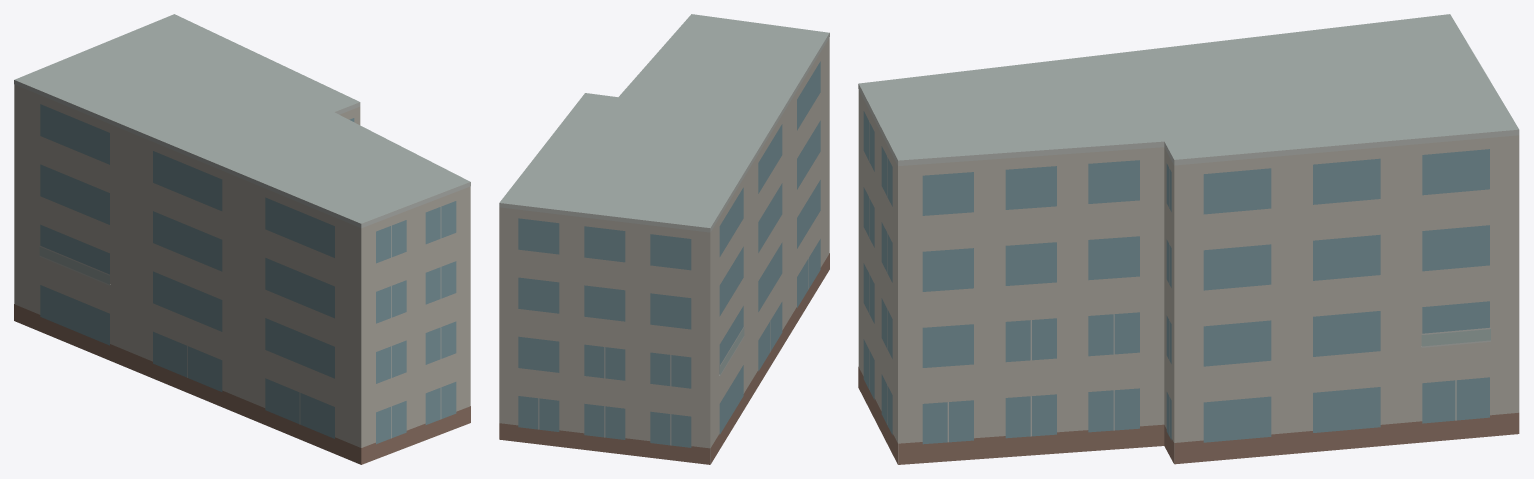
File: survey-upis-32773772.glb
3 views of the same model, side by side, from view 1: azimuth 30°, elevation 25°; view 2: azimuth 150°, elevation 25°; view 3: azimuth 270°, elevation 25° (orthographic). The views are drawn at different scales.
Visible parts, largest first — view 1: survey-upis-32773772.tmp; view 2: survey-upis-32773772.tmp; view 3: survey-upis-32773772.tmp.
Part boxes in pixels (left/top/right/bottom): survey-upis-32773772.tmp: left=14, top=14, right=470, bottom=464; survey-upis-32773772.tmp: left=499, top=14, right=829, bottom=464; survey-upis-32773772.tmp: left=858, top=14, right=1519, bottom=464.
Size of the model in its own units: 13.64 by 13.2 by 25.99.
